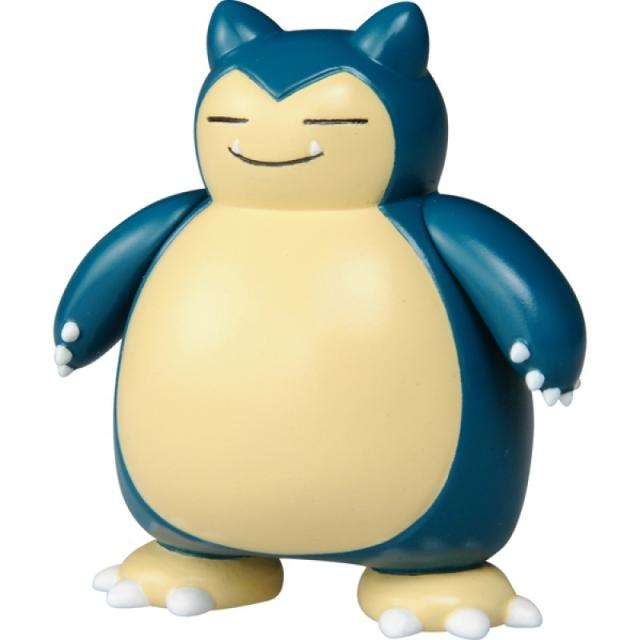Snorlax: (91, 0, 539, 622)
